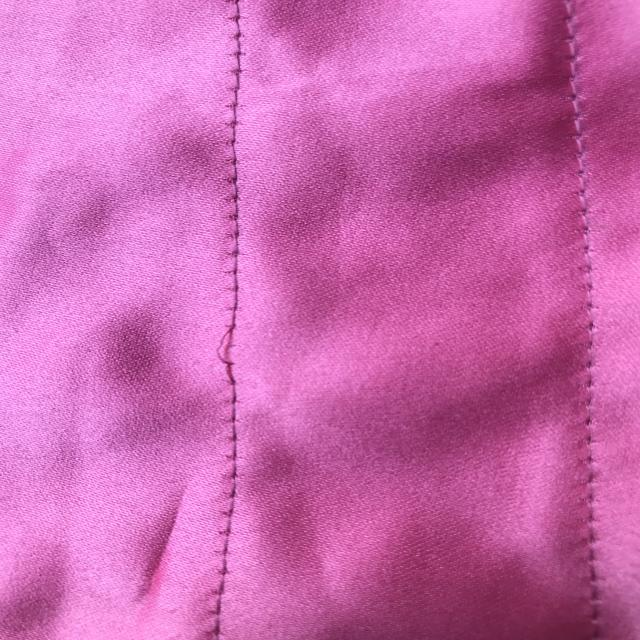skip: (189, 312, 252, 376)
